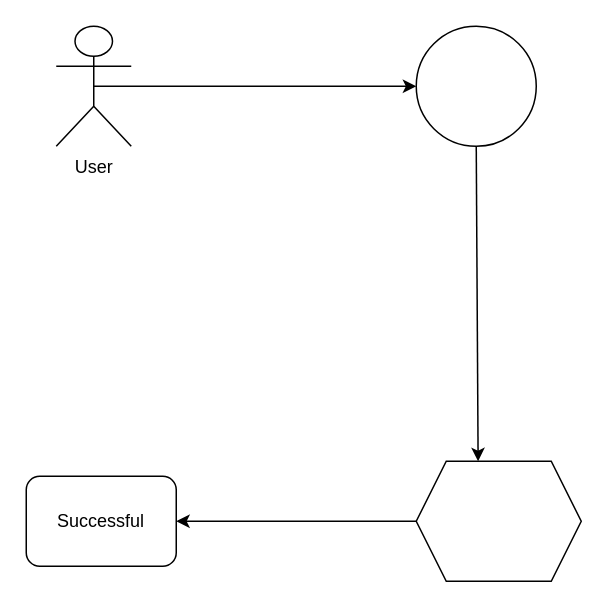
This 608x608 diagram has some shape labels left out. The shapes that lost their labels are listed below. From the top down, each one's box as (x1, y1, x2, y2) in pixels, then its label:
(415, 25, 536, 146): Login
(415, 460, 581, 581): password
